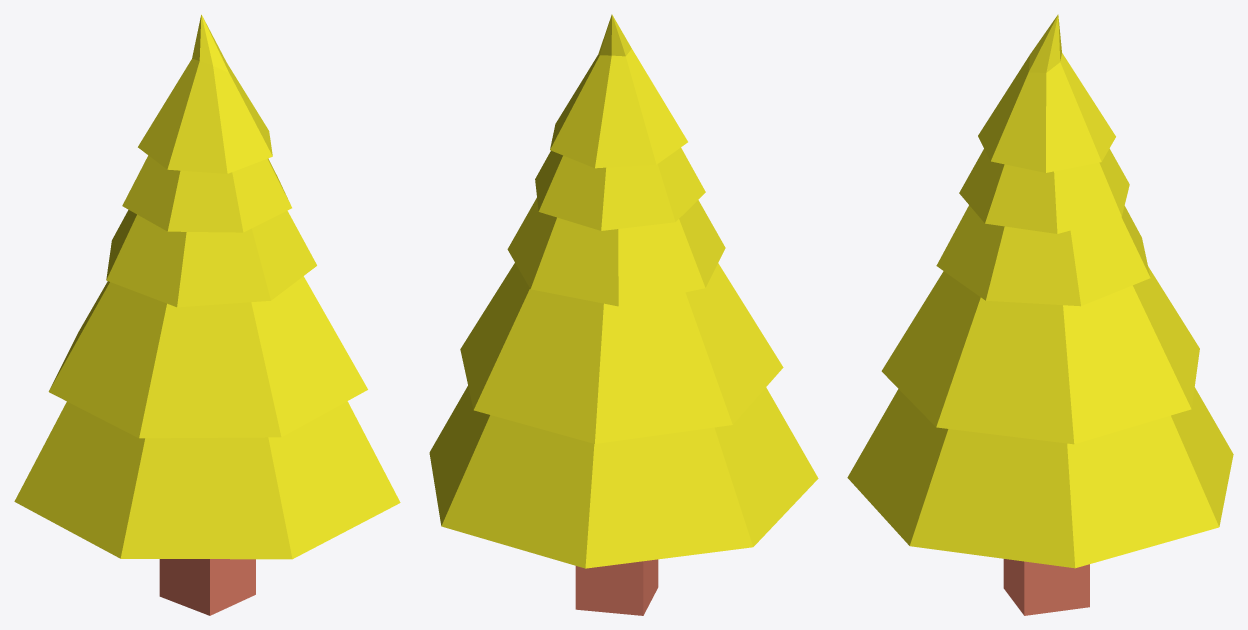
File: LowPolyTree.fbx
The picture shows the model from 3 angles, left to right: view 1: azimuth 30°, elevation 25°; view 2: azimuth 150°, elevation 25°; view 3: azimuth 270°, elevation 25°; orthographic projection.
Parts seen in each view (by area): view 1: Cube; view 2: Cube; view 3: Cube.
Boxes of the visible parts, <box> form: Cube: <box>14,14,400,615</box>; Cube: <box>429,14,818,615</box>; Cube: <box>847,14,1233,615</box>.
Size of the model in its own units: 373 by 618 by 371.
